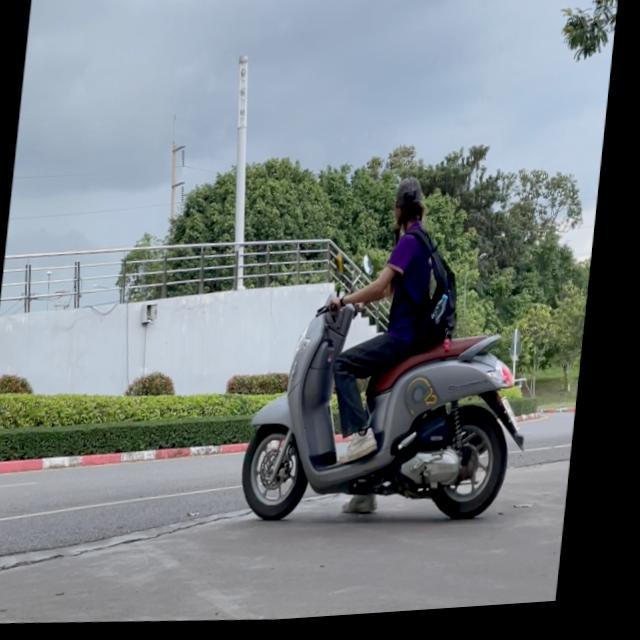seatbelt: (394, 179, 432, 236)
